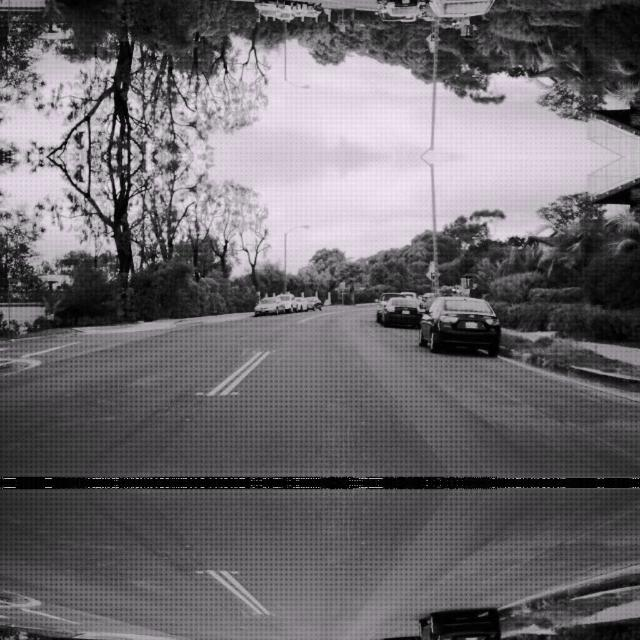signalAhead: (424, 266, 440, 282), (424, 30, 440, 46)
